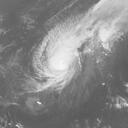cyclone: (32, 42, 82, 93)
